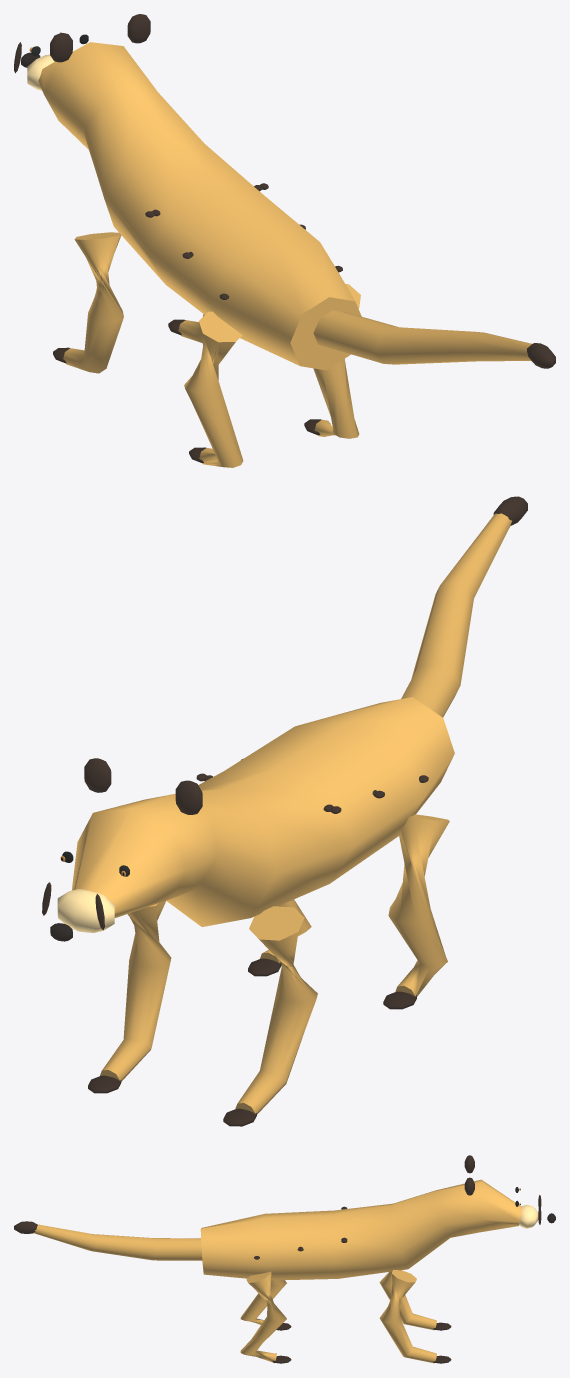
File: cheetah_mobile.glb
3 views of the same model, one above another, from view 1: azimuth 30°, elevation 25°; view 2: azimuth 150°, elevation 25°; view 3: azimuth 270°, elevation 25° (orthographic). The views are drawn at different scales.
Parts seen in each view (by area): view 1: CheetahOrganicBody, Tail, Leg_LH, Leg_LF, Leg_RH, RoundEar2, RoundEar, TailTipDetail; view 2: CheetahOrganicBody, Tail, Leg_LF, Leg_LH, Leg_RF, Muzzle, RoundEar2, RoundEar; view 3: CheetahOrganicBody, Tail, Leg_RF, Leg_RH, Leg_LF, Leg_LH, Muzzle.
Part boxes in pixels (x1,y1,x2,y2): CheetahOrganicBody: (38,42,361,370); Tail: (313,310,531,364); Leg_LH: (184,311,243,467); Leg_LF: (63,232,123,373); Leg_RH: (313,284,360,438); RoundEar2: (127,14,150,43); RoundEar: (50,33,72,62); TailTipDetail: (527,343,555,368); CheetahOrganicBody: (71,697,454,926); Tail: (401,513,511,717); Leg_LF: (235,906,317,1114); Leg_LH: (388,814,449,996); Leg_RF: (100,901,171,1081); Muzzle: (57,889,114,932); RoundEar2: (84,758,111,792); RoundEar: (175,780,202,814); CheetahOrganicBody: (200,1179,522,1280); Tail: (33,1224,202,1260); Leg_RF: (379,1269,436,1363); Leg_RH: (240,1271,286,1363); Leg_LF: (379,1271,436,1330); Leg_LH: (240,1280,286,1324); Muzzle: (519,1205,538,1228).
Size of the model in its own units: 1.2 by 2.22 by 6.08.
